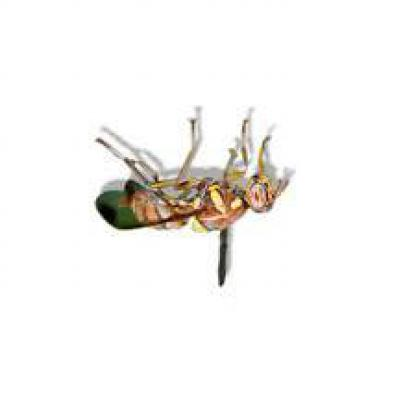fruit fly: (94, 119, 289, 283)
